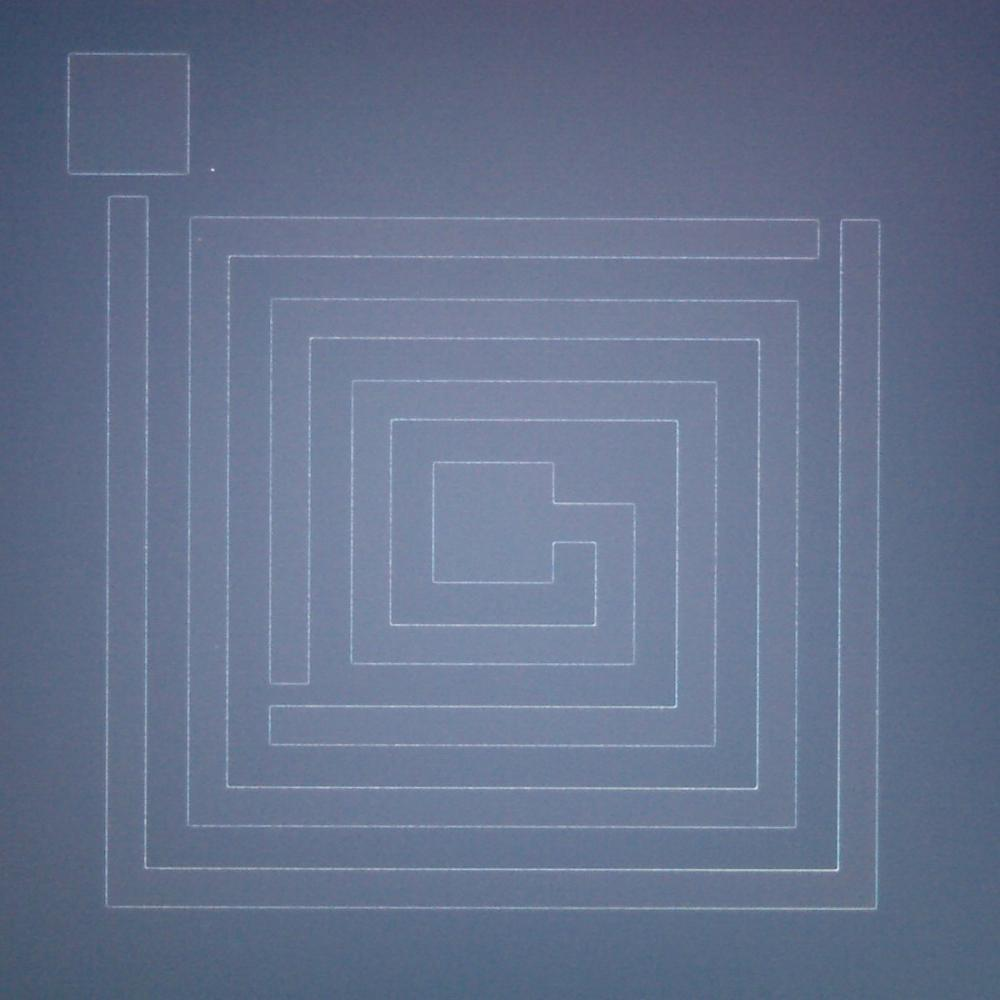short circuit: (800, 203, 857, 274), (260, 654, 320, 718), (94, 162, 162, 218)
